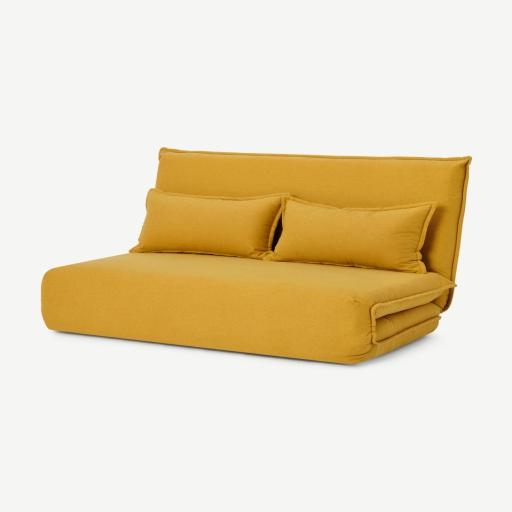back_cushion: (131, 148, 470, 280)
one-seater: (42, 148, 470, 363)
seat_cushion: (42, 253, 454, 363)
